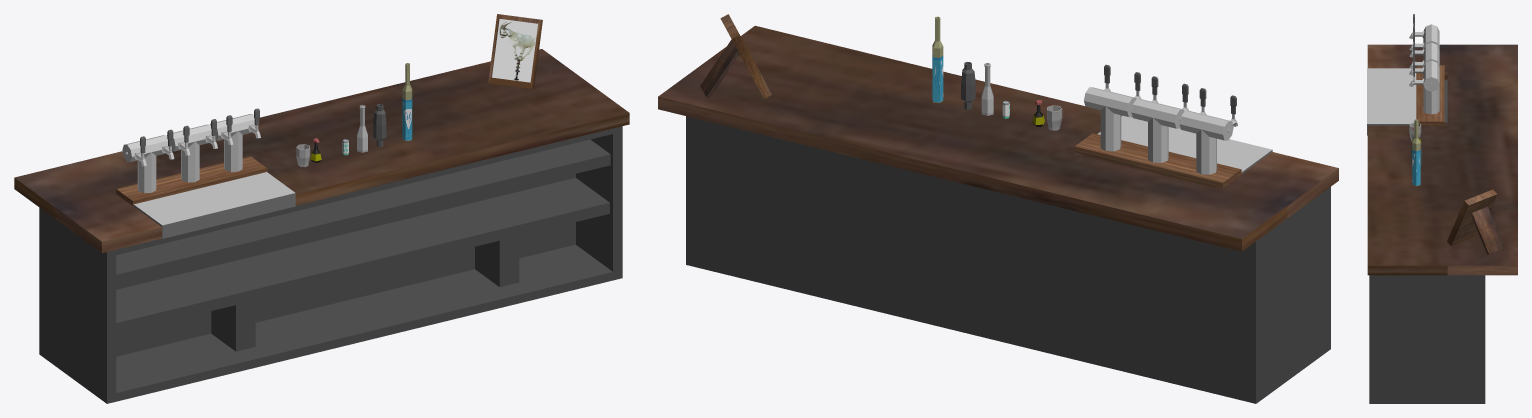
File: assetsforToJam.fbx
The picture shows the model from 3 angles, left to right: view 1: azimuth 30°, elevation 25°; view 2: azimuth 150°, elevation 25°; view 3: azimuth 270°, elevation 25°; orthographic projection. The views are drawn at different scales.
Visible parts, largest first — view 1: pCube1, pCube2, bottomShelf_GEO, topShelf_GEO, pCube4, frame_GEO, pCube3, rght_shelf_GEO, lft_shelf_GEO, tallBottle_GEO, beerBase_GEO, beerTop_GEO (+4 smaller); view 2: pCube1, pCube2, pCube3, pCube4, frame_GEO, beerTop_GEO, beerTop_GEO1, beerTop_GEO2, beerBase_GEO2, tallBottle_GEO, beerBase_GEO, beerBase_GEO1; view 3: pCube2, pCube1, pCube4, frame_GEO, pCube3, tallBottle_GEO, beerTop_GEO2, beerBase_GEO2, beerTop_GEO, beerTop_GEO1.
Boxes of the visible parts, <box> form: pCube1: <box>39,126,622,403</box>; pCube2: <box>14,49,629,252</box>; bottomShelf_GEO: <box>116,177,609,333</box>; topShelf_GEO: <box>116,139,610,285</box>; pCube4: <box>133,172,295,238</box>; frame_GEO: <box>488,14,542,88</box>; pCube3: <box>116,156,267,206</box>; rght_shelf_GEO: <box>475,236,519,286</box>; lft_shelf_GEO: <box>211,300,255,351</box>; tallBottle_GEO: <box>402,63,412,140</box>; beerBase_GEO: <box>137,152,156,193</box>; beerTop_GEO: <box>122,135,168,162</box>; pCube1: <box>686,116,1330,403</box>; pCube2: <box>658,25,1338,251</box>; pCube3: <box>1074,133,1241,188</box>; pCube4: <box>1097,115,1272,173</box>; frame_GEO: <box>700,14,771,98</box>; beerTop_GEO: <box>1179,110,1233,140</box>; beerTop_GEO1: <box>1131,99,1184,128</box>; beerTop_GEO2: <box>1084,87,1136,117</box>; beerBase_GEO2: <box>1100,106,1121,151</box>; tallBottle_GEO: <box>932,16,943,102</box>; beerBase_GEO: <box>1196,129,1216,174</box>; beerBase_GEO1: <box>1148,118,1168,162</box>; pCube2: <box>1367,44,1517,275</box>; pCube1: <box>1369,80,1485,403</box>; pCube4: <box>1367,68,1416,135</box>; frame_GEO: <box>1447,189,1504,254</box>; pCube3: <box>1416,65,1444,125</box>; tallBottle_GEO: <box>1412,119,1420,186</box>; beerTop_GEO2: <box>1423,60,1439,91</box>; beerBase_GEO2: <box>1423,85,1439,114</box>; beerTop_GEO: <box>1423,24,1439,48</box>; beerTop_GEO1: <box>1423,42,1439,66</box>.
Bounding box in the file's own units: 72.67 × 31.55 × 20.97.
